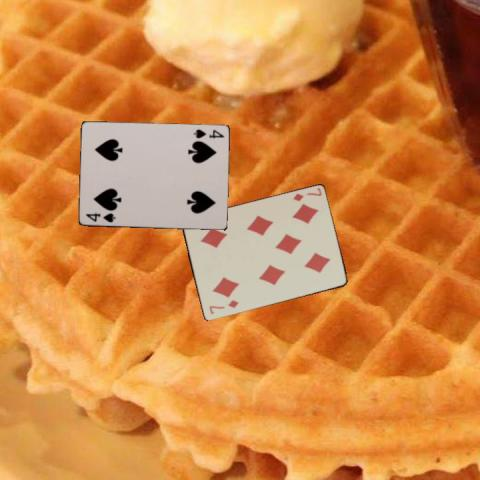4s: (82, 210, 117, 224), (190, 127, 225, 140)
7d: (206, 298, 240, 316), (290, 185, 323, 203)
